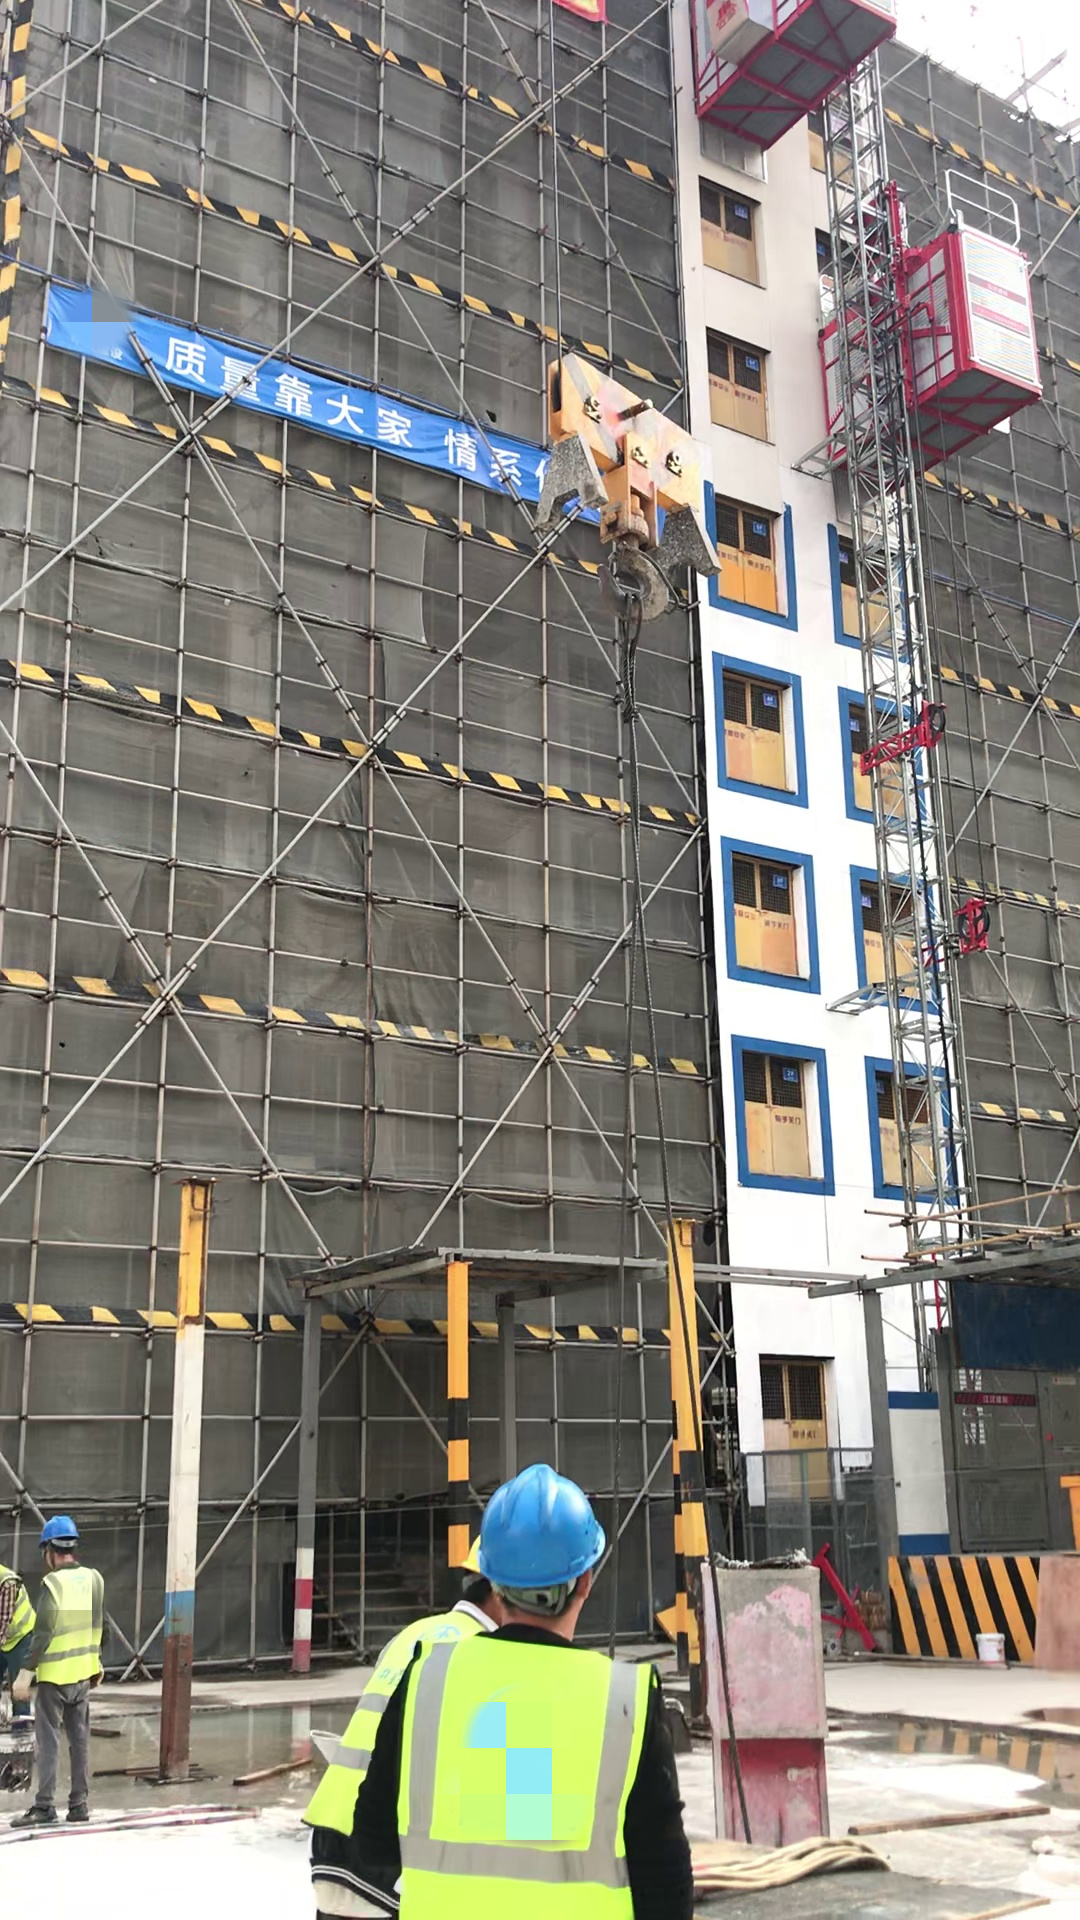helmet: (472, 1477, 615, 1581), (38, 1511, 89, 1549)
hook: (526, 342, 714, 634)
person: (388, 1476, 741, 1920), (306, 1525, 510, 1920), (26, 1500, 155, 1845), (2, 1553, 33, 1732)
slogan: (64, 267, 528, 499)
vest: (380, 1637, 654, 1920), (318, 1599, 486, 1818), (28, 1572, 120, 1694), (1, 1573, 45, 1653)
